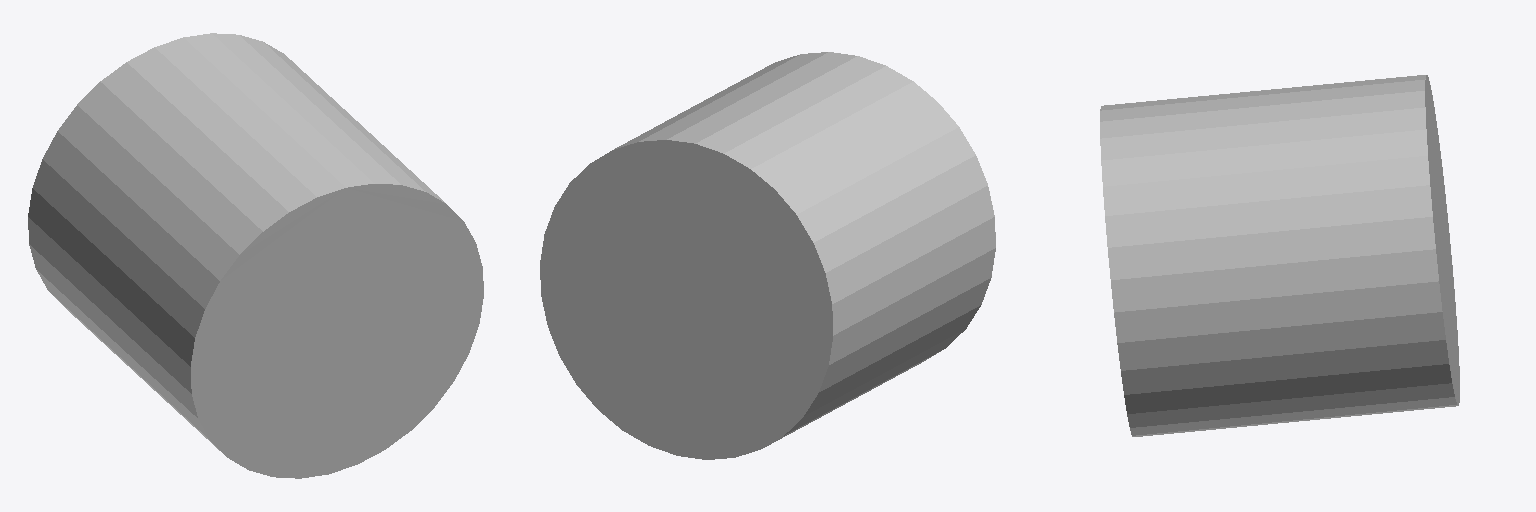
The model's file is reg.obj.
The picture shows the model from 3 angles: view 1: azimuth 30°, elevation 25°; view 2: azimuth 150°, elevation 25°; view 3: azimuth 270°, elevation 25°; orthographic projection.
Visible parts, largest first — view 1: Цилиндр; view 2: Цилиндр; view 3: Цилиндр.
Part boxes in pixels (x1,y1,x2,y2): Цилиндр: (28, 33, 483, 478); Цилиндр: (540, 52, 995, 459); Цилиндр: (1100, 75, 1459, 436).
Size of the model in its own units: 0.015 by 0.0161 by 0.0159.